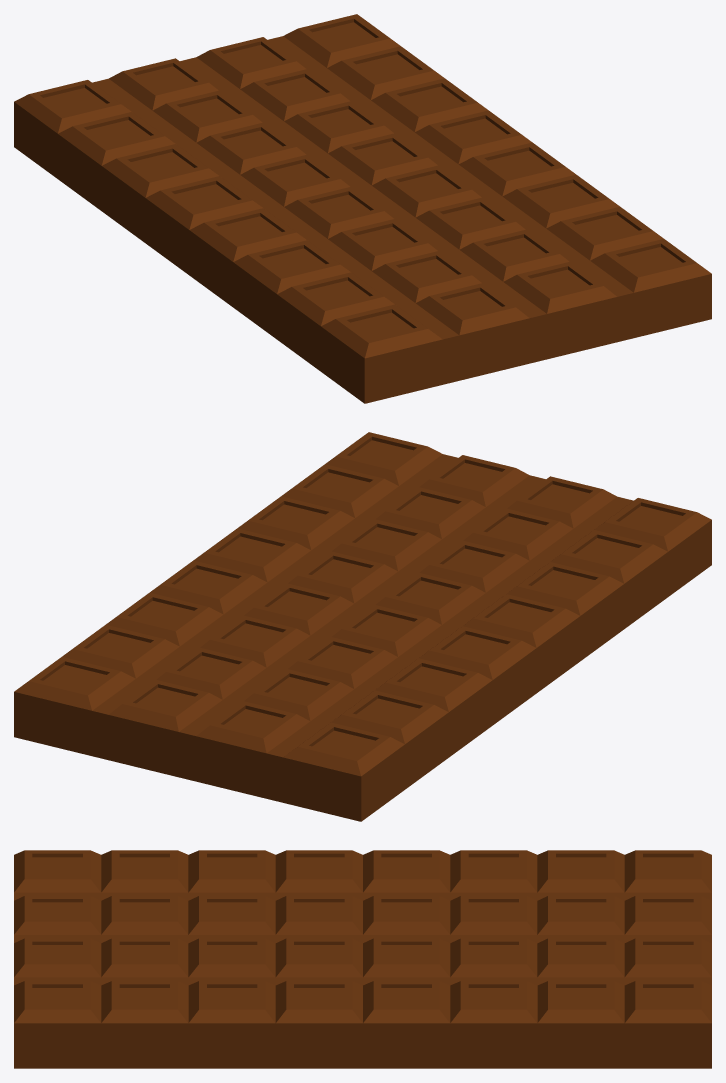
The model's file is chocolate.fbx.
The picture shows the model from 3 angles, top to bottom: view 1: azimuth 30°, elevation 25°; view 2: azimuth 150°, elevation 25°; view 3: azimuth 270°, elevation 25°; orthographic projection.
Visible parts, largest first — view 1: Cube; view 2: Cube; view 3: Cube.
Boxes of the visible parts, left/top/right/bottom form: Cube: left=14, top=14, right=711, bottom=403; Cube: left=14, top=432, right=711, bottom=821; Cube: left=14, top=850, right=711, bottom=1068.
Bounding box in the file's own units: 560 × 84 × 980.
